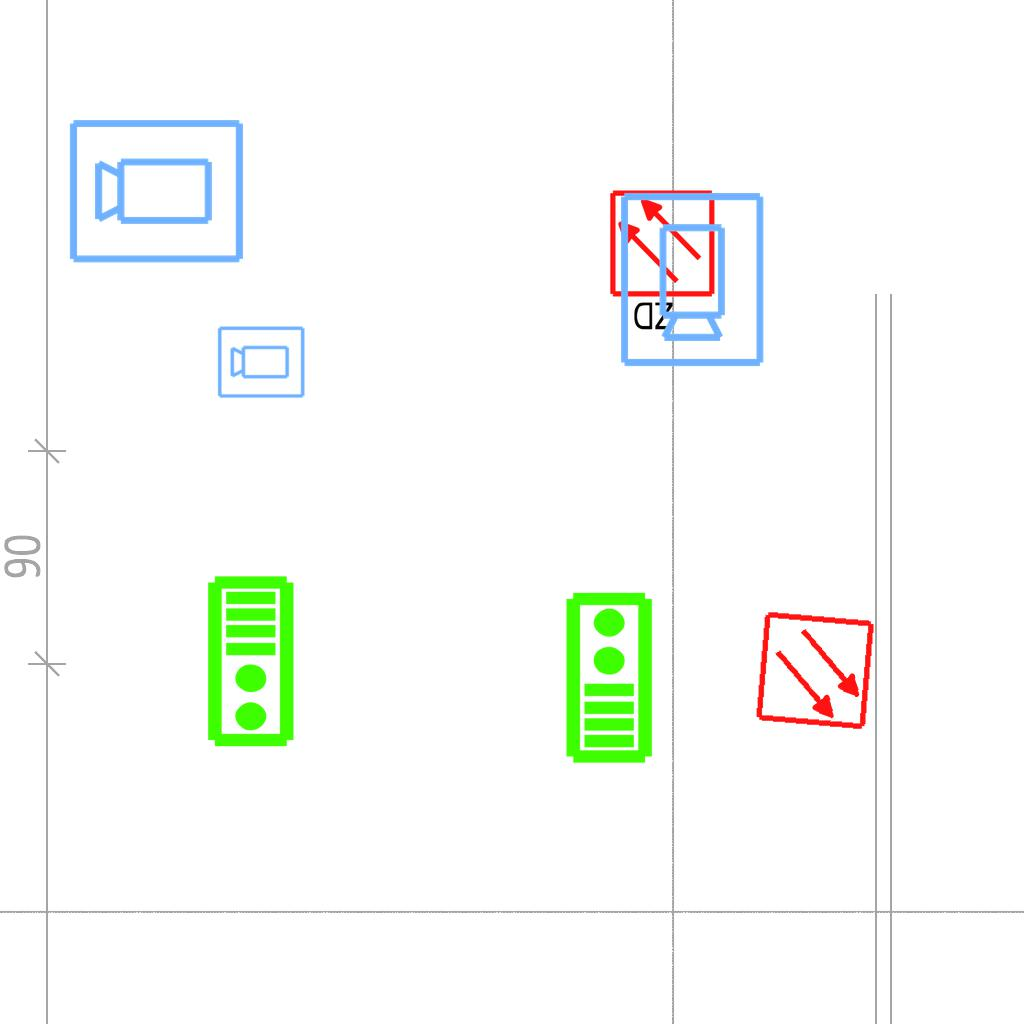Gegensprechanlage_mit_Video: (205, 574, 300, 750), (560, 589, 655, 765)
KFO_Kamera_mit_Festobjektiv: (66, 113, 248, 267), (614, 188, 768, 370), (216, 323, 307, 400)
RMO_Rauchmelder_optischer: (754, 609, 877, 732)
ZD_Melder_in_Zwischendecke_mit_Revisionsoeffnung_mind_40_x_40_cm: (607, 188, 721, 337)
